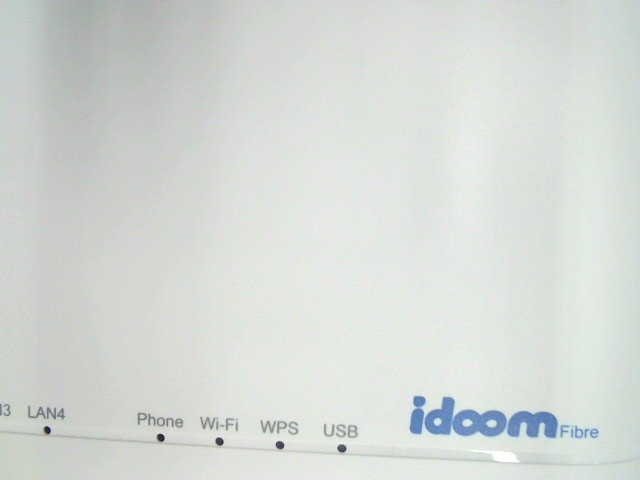BB_idoom: (399, 389, 601, 444)
